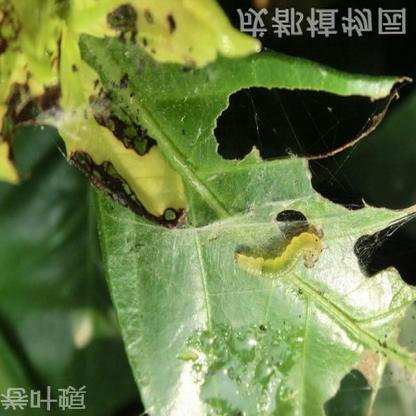leaf-folder: (222, 216, 356, 290)
